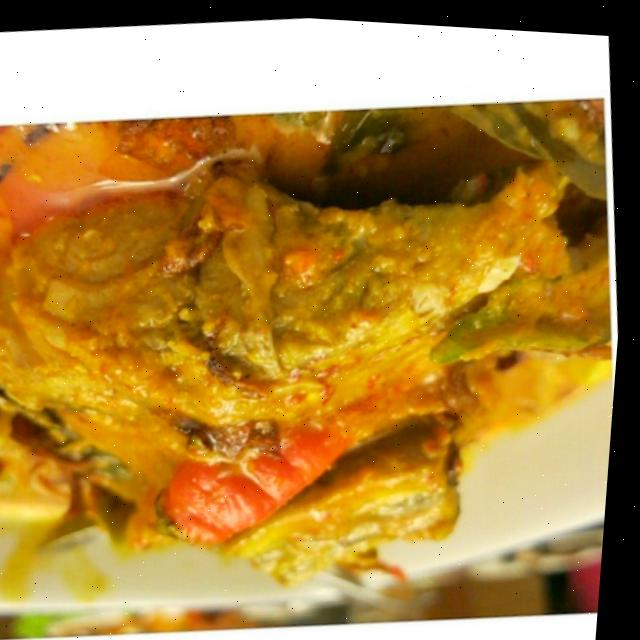熟制海鲜: (0, 71, 636, 640)
